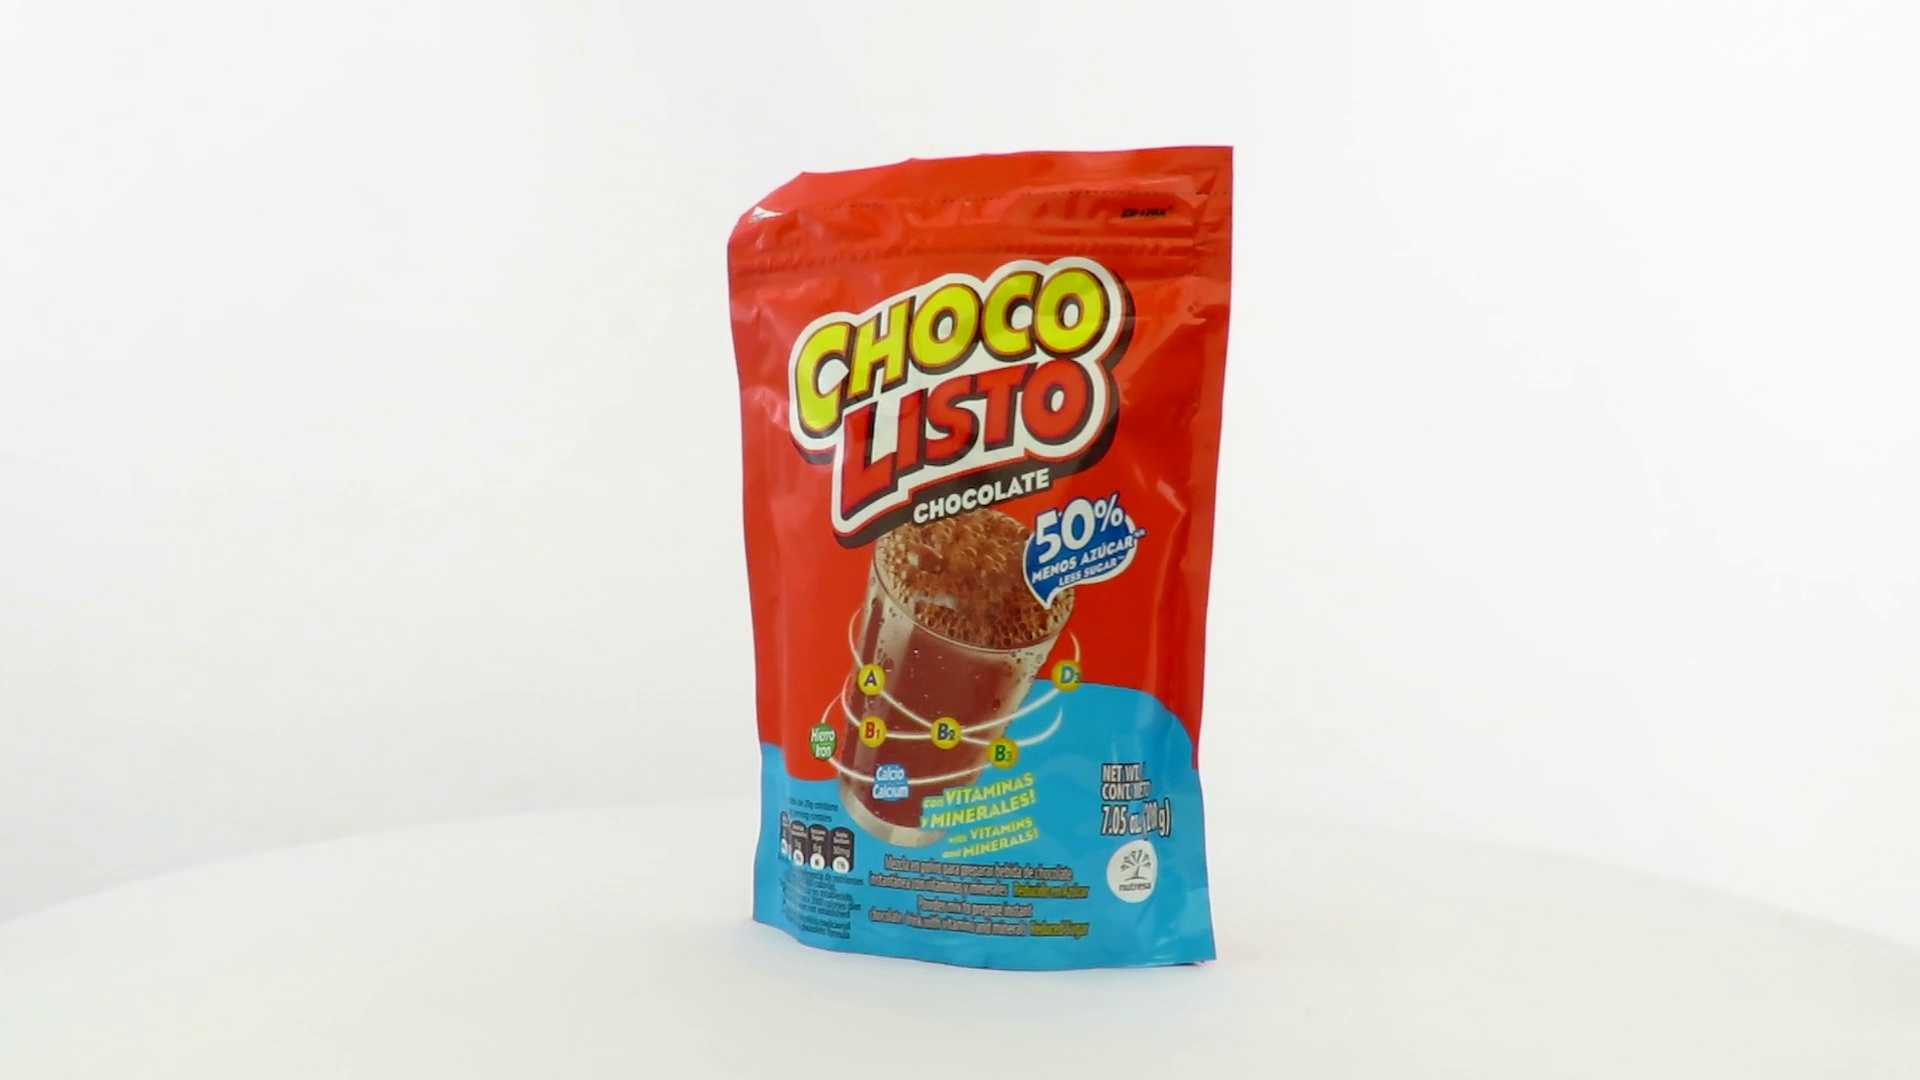COL0170104DYP20000: (723, 140, 1240, 978)
